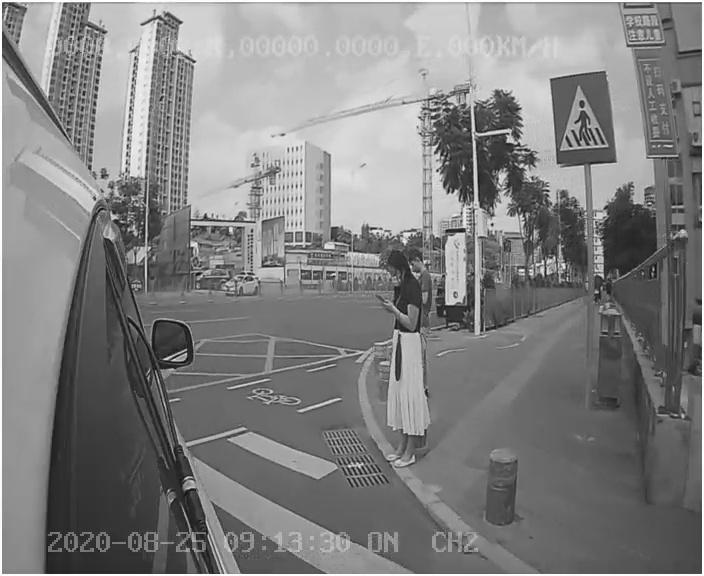person: (368, 248, 433, 469)
